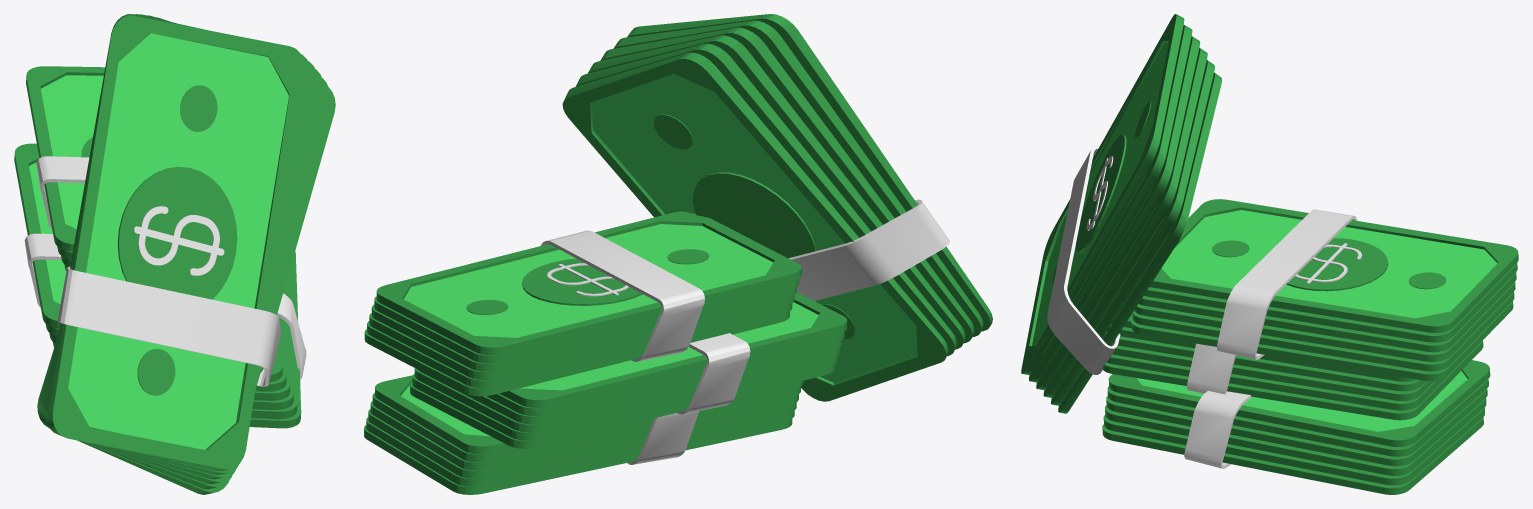
The model's file is money-3d-animated-icon-1518132976938.glb.
3 renders of one model, left to right at view 1: azimuth 30°, elevation 25°; view 2: azimuth 150°, elevation 25°; view 3: azimuth 270°, elevation 25°, orthographic. The views are drawn at different scales.
Visible parts, largest first — view 1: Plane, Plane.003, Plane.002, Plane.001; view 2: Plane, Plane.003, Plane.002, Plane.001; view 3: Plane.003, Plane, Plane.001, Plane.002.
Part boxes in pixels (x1,y1,x2,y2): Plane: [37, 14, 335, 494]; Plane.003: [26, 66, 105, 270]; Plane.002: [14, 143, 263, 372]; Plane.001: [249, 251, 306, 428]; Plane: [562, 14, 992, 401]; Plane.003: [364, 211, 801, 396]; Plane.002: [410, 292, 847, 448]; Plane.001: [364, 375, 803, 494]; Plane.003: [1131, 199, 1518, 380]; Plane: [1021, 14, 1221, 413]; Plane.001: [1102, 360, 1490, 494]; Plane.002: [1102, 314, 1483, 420].
Size of the model in its own units: 3.56 by 3.41 by 3.96.
